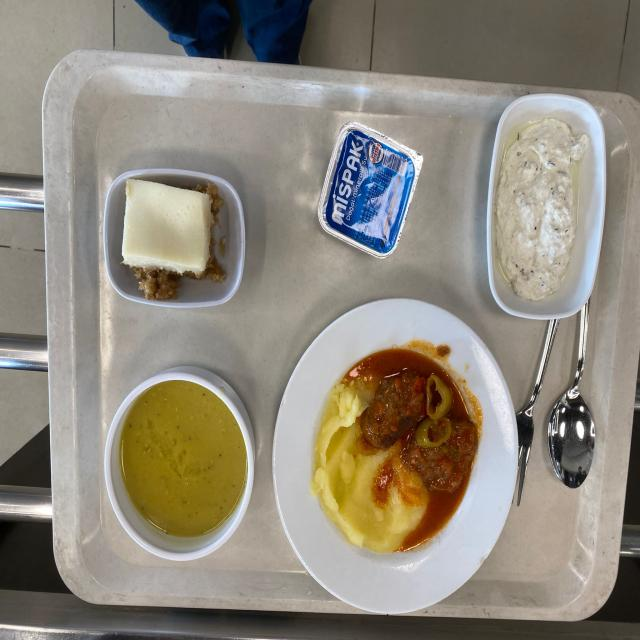ana_yemek: (302, 300, 514, 617)
corba: (102, 367, 255, 560)
yan_yemek: (486, 91, 607, 314), (102, 167, 245, 306)
